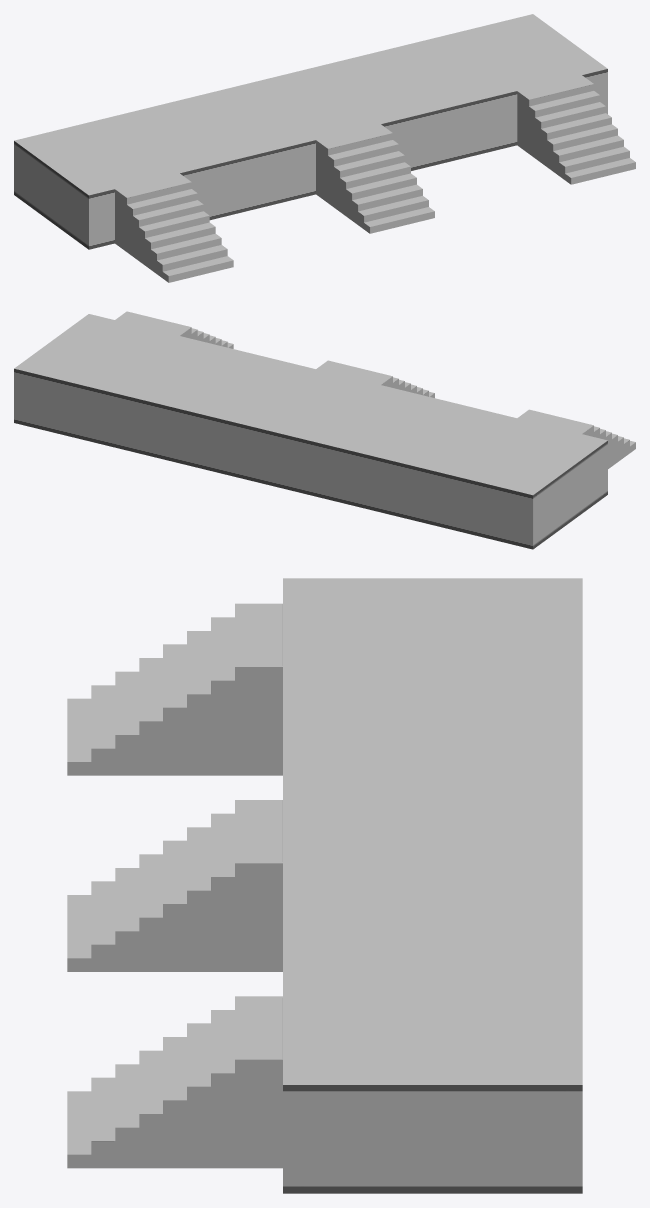
Rendered from rostrum.fbx.
The picture shows the model from 3 angles, top to bottom: view 1: azimuth 30°, elevation 25°; view 2: azimuth 150°, elevation 25°; view 3: azimuth 270°, elevation 25°; orthographic projection. The views are drawn at different scales.
Parts seen in each view (by area): view 1: 큐브; view 2: 큐브; view 3: 큐브.
Boxes of the visible parts, bbox=[...] form: 큐브: bbox=[14, 14, 635, 282]; 큐브: bbox=[14, 311, 635, 549]; 큐브: bbox=[67, 578, 582, 1193].
Size of the model in its own units: 4000 by 400 by 1720.
1 material, 1 textured.
